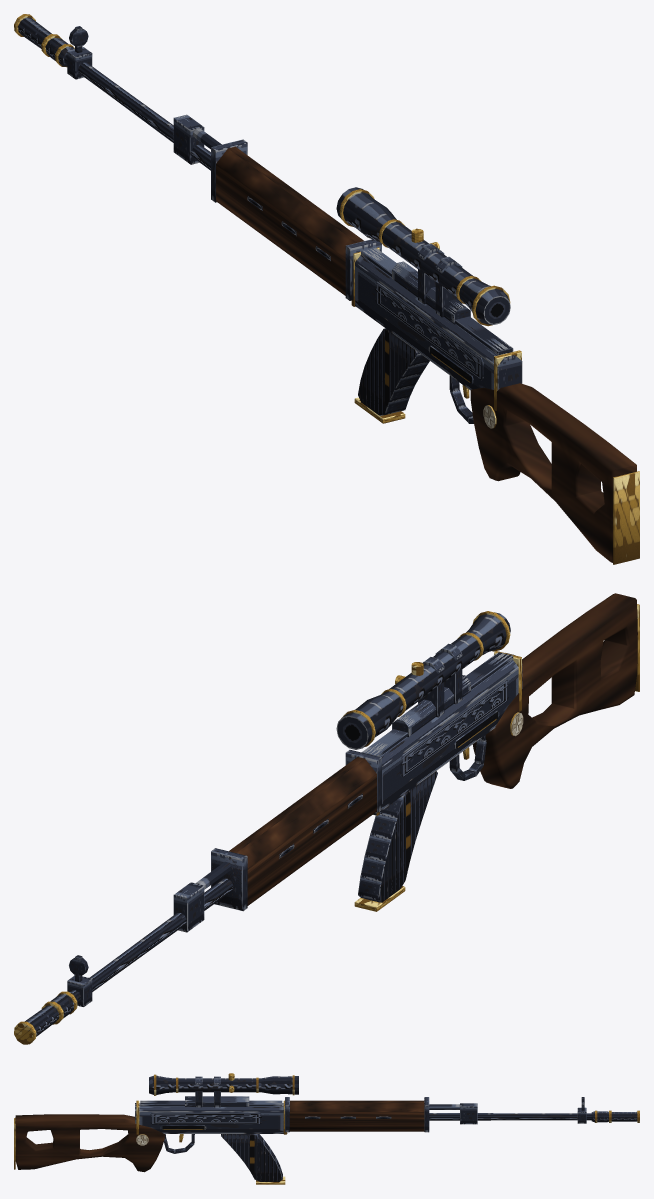
The model's file is sniper_marksman_base.glb.
3 views of the same model, one above another, from view 1: azimuth 30°, elevation 25°; view 2: azimuth 150°, elevation 25°; view 3: azimuth 270°, elevation 25° (orthographic). The views are drawn at different scales.
Parts seen in each view (by area): view 1: furniture, receiver, magazine; view 2: furniture, receiver, magazine; view 3: furniture, receiver, magazine.
Boxes of the visible parts, bbox=[...] form: furniture: bbox=[211, 139, 639, 564]; receiver: bbox=[14, 14, 522, 423]; magazine: bbox=[354, 328, 429, 423]; furniture: bbox=[211, 593, 639, 911]; receiver: bbox=[14, 611, 522, 1044]; magazine: bbox=[354, 771, 437, 911]; furniture: bbox=[14, 1097, 429, 1172]; receiver: bbox=[135, 1073, 639, 1153]; magazine: bbox=[221, 1134, 285, 1184].
Size of the model in its own units: 0.045 by 0.234 by 1.23.
Materials: 2 (2 with a texture image).
